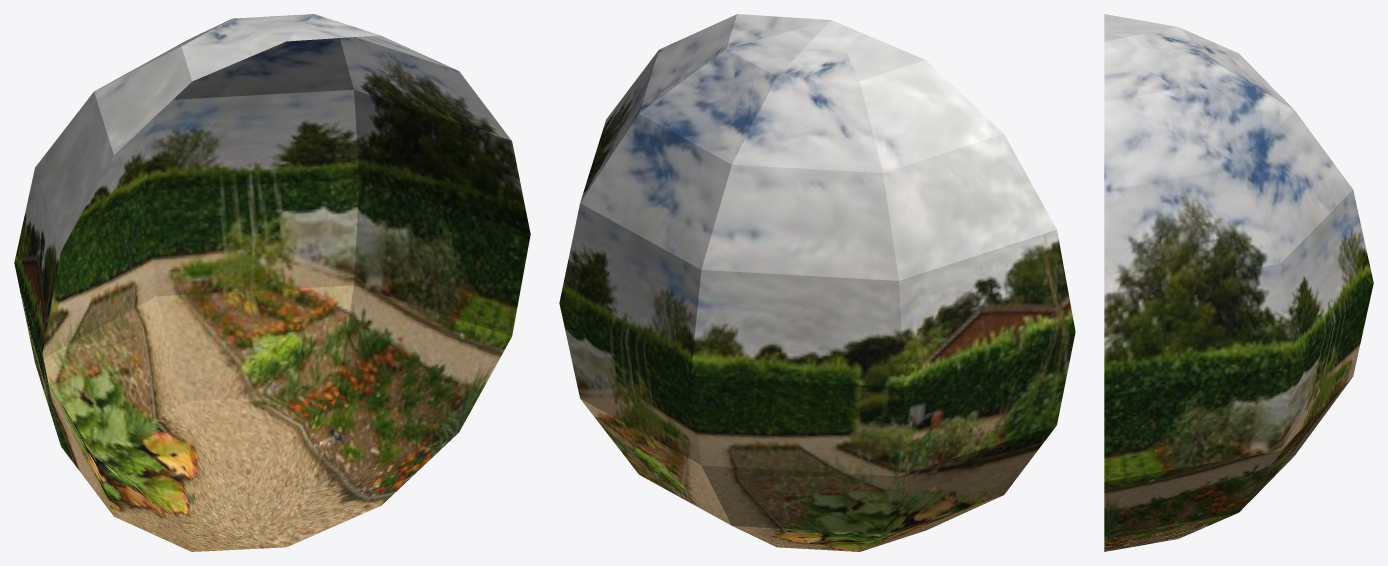
Rendered from panorama_half.fbx.
The picture shows the model from 3 angles, left to right: view 1: azimuth 30°, elevation 25°; view 2: azimuth 150°, elevation 25°; view 3: azimuth 270°, elevation 25°; orthographic projection. The views are drawn at different scales.
Visible parts, largest first — view 1: Sphere.001; view 2: Sphere.001; view 3: Sphere.001.
Part boxes in pixels (bbox=[...]): Sphere.001: bbox=[14, 14, 530, 551]; Sphere.001: bbox=[559, 14, 1075, 551]; Sphere.001: bbox=[1104, 14, 1373, 551].
Size of the model in its own units: 7000 by 6931 by 3501.
